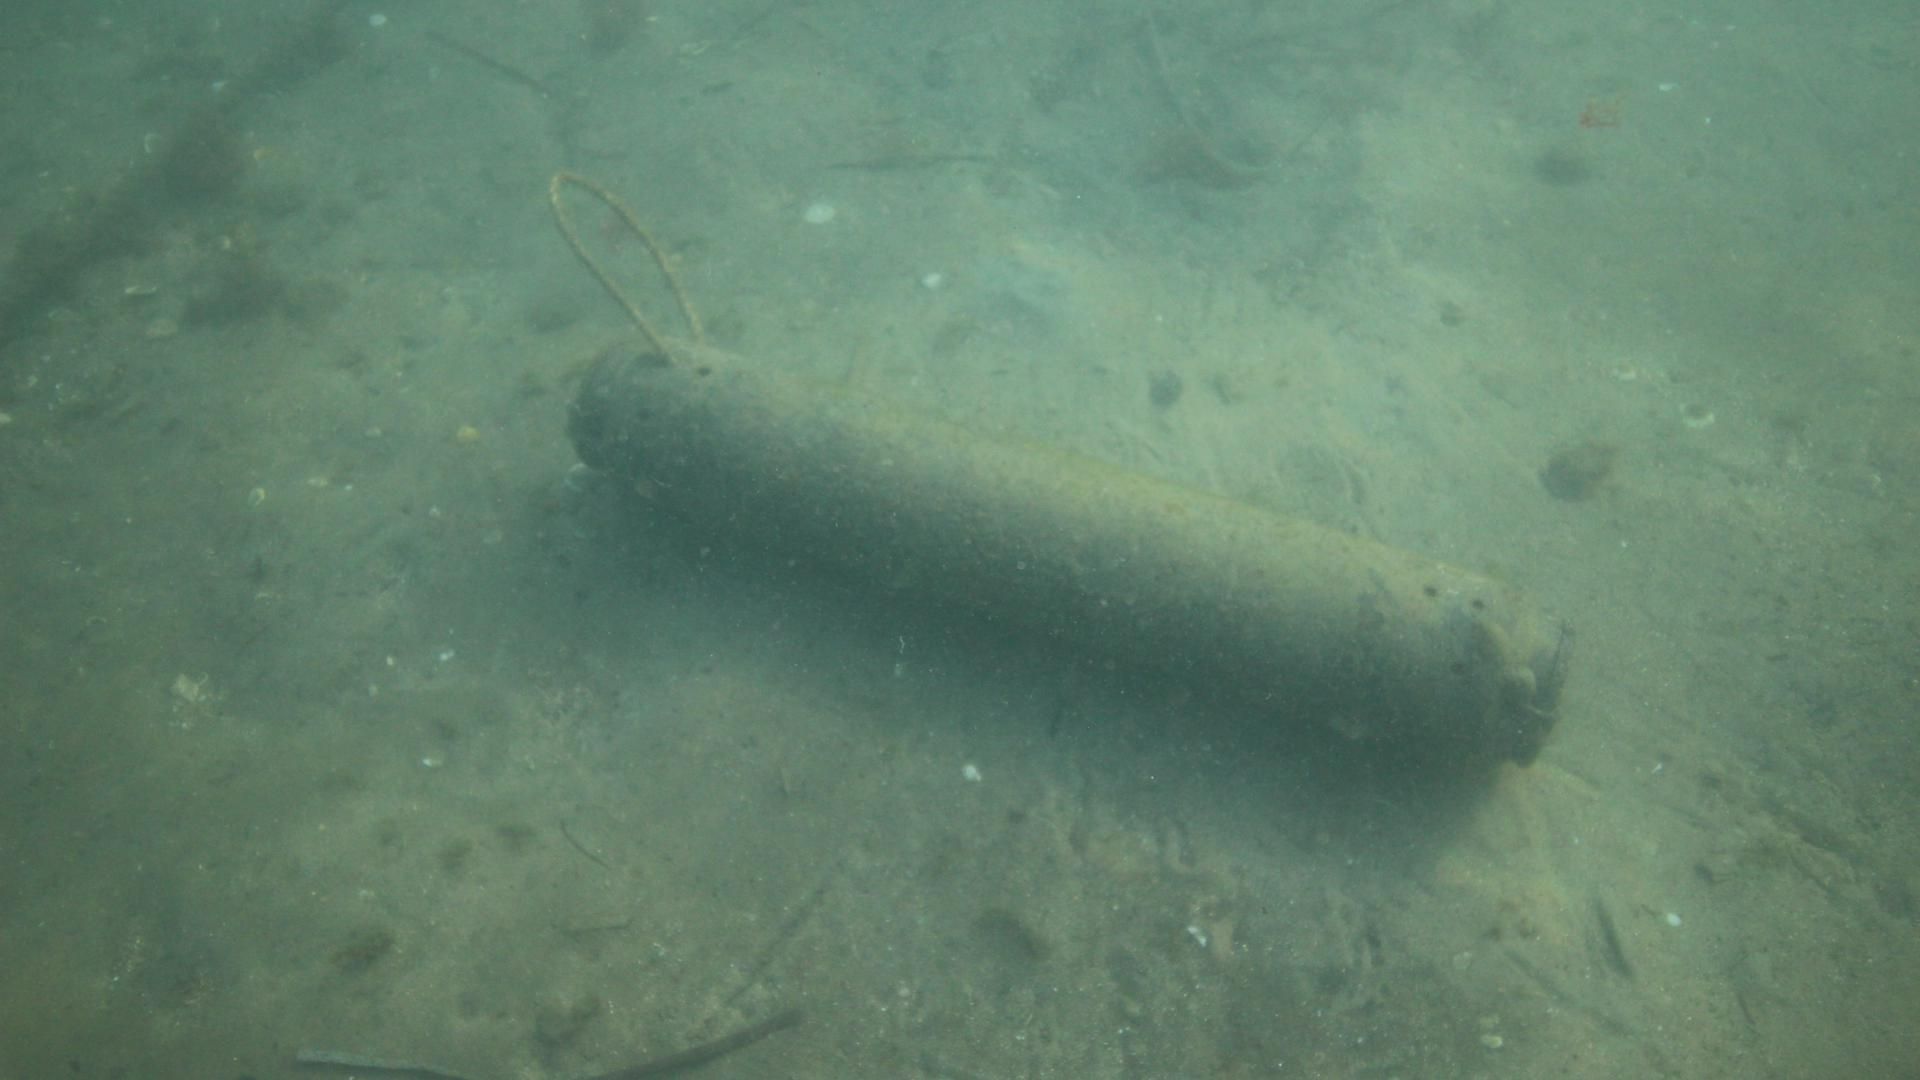eel fish trap: (563, 324, 1576, 771)
rope: (547, 167, 705, 365)
